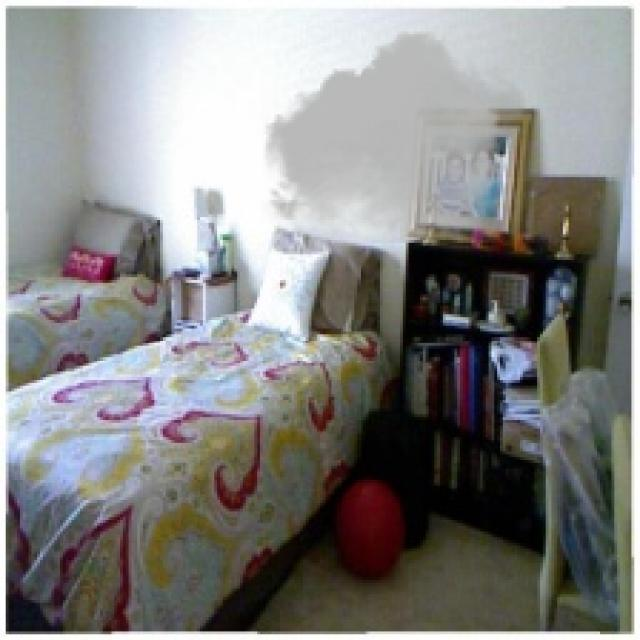smoke: (260, 31, 534, 243)
